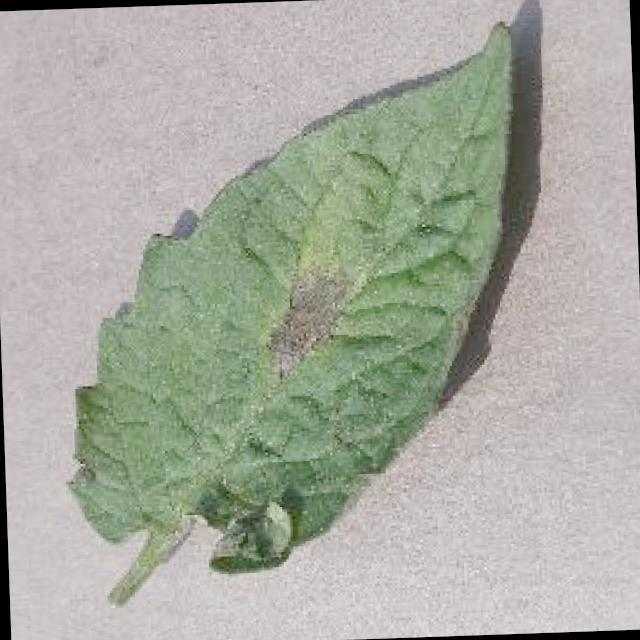Tomato late blight leaf: (48, 15, 533, 582)
